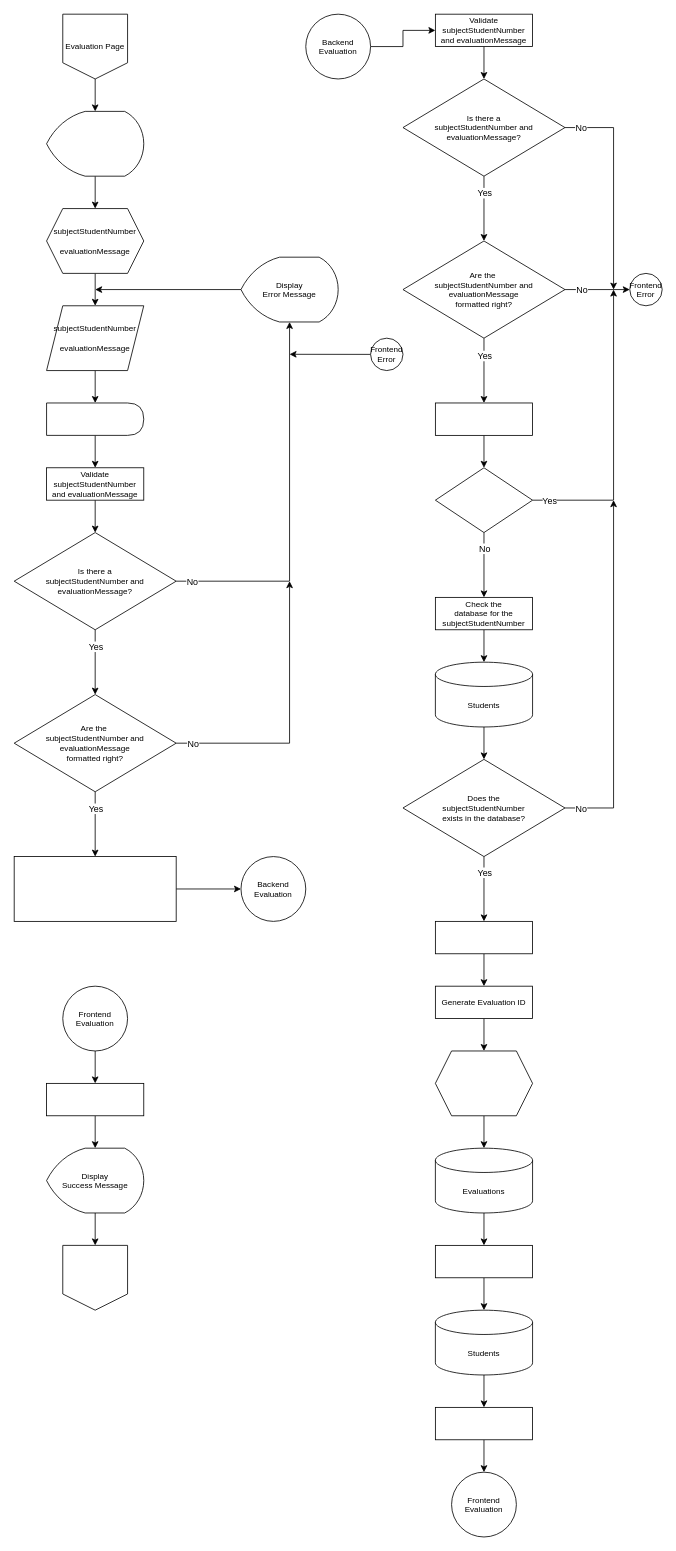
Some shapes in this 676 by 1551 pixel diagram are drawn without their labels. The centre of each missing label's shape, as x and y in pixels:
Add the evaluationID to the evaluations list of the student evaluating: [484,1261]
Are there any profanity on evaluationMessage?: [484,500]
Check evaluationMessage for profanity: [484,418]
Clear input fields: [95,1099]
Dashboard Buttons: [95,1277]
Display Evaluation Page: [95,143]
evaluationID: [484,1083]
Save the evaluationMessage to the database: [484,937]
Send "SUCCESS" response to the frontend: [484,1423]
Send subjectStudentNumber and evaluationMessage to the server: [94,888]
Wait for student to press "Submit": [95,418]
